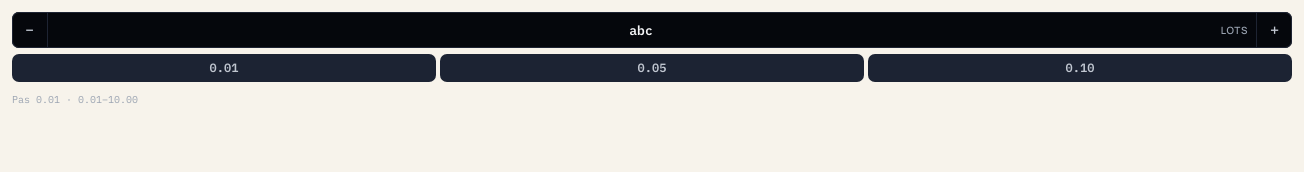
it: QuantityControl › recovers to the minimum from a value the field cannot parse
The image size is (1304, 172).
Click the button named "Augmenter la quantité": (1274, 30) [1256,12,1292,48]
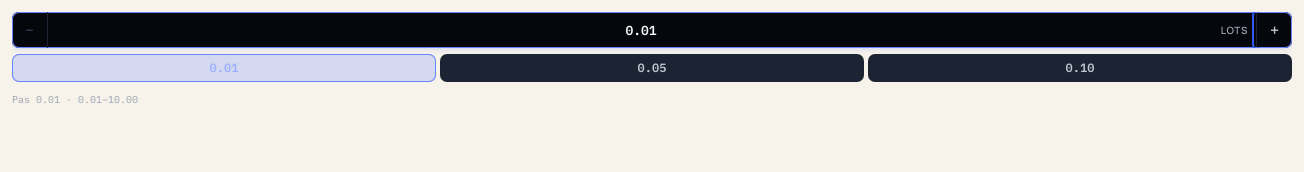
Expected: the field named "Quantité (lots)" holds "0.01", [48,12,1256,48]
